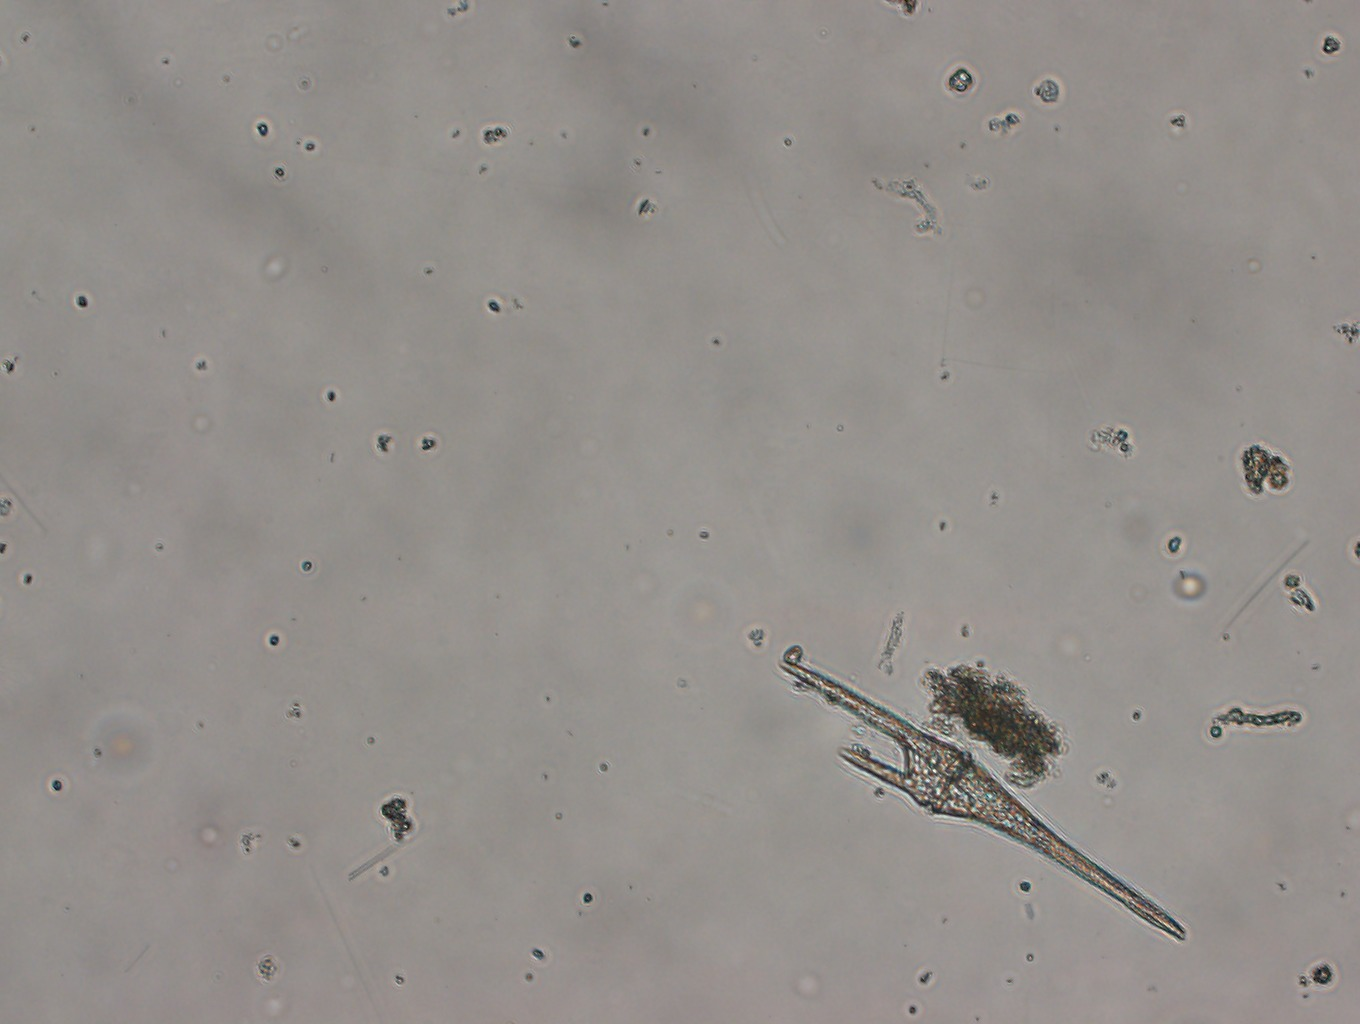ceratium furca: (773, 653, 1192, 945)
